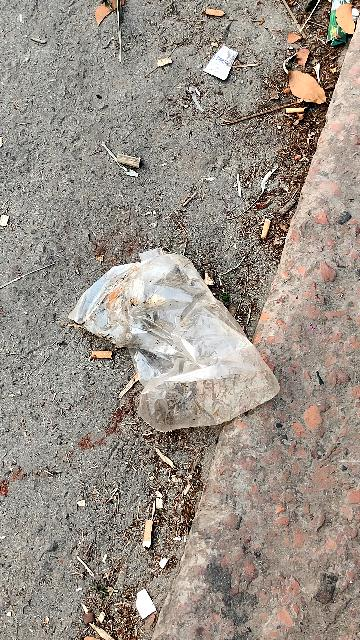polythene: (64, 231, 292, 469)
